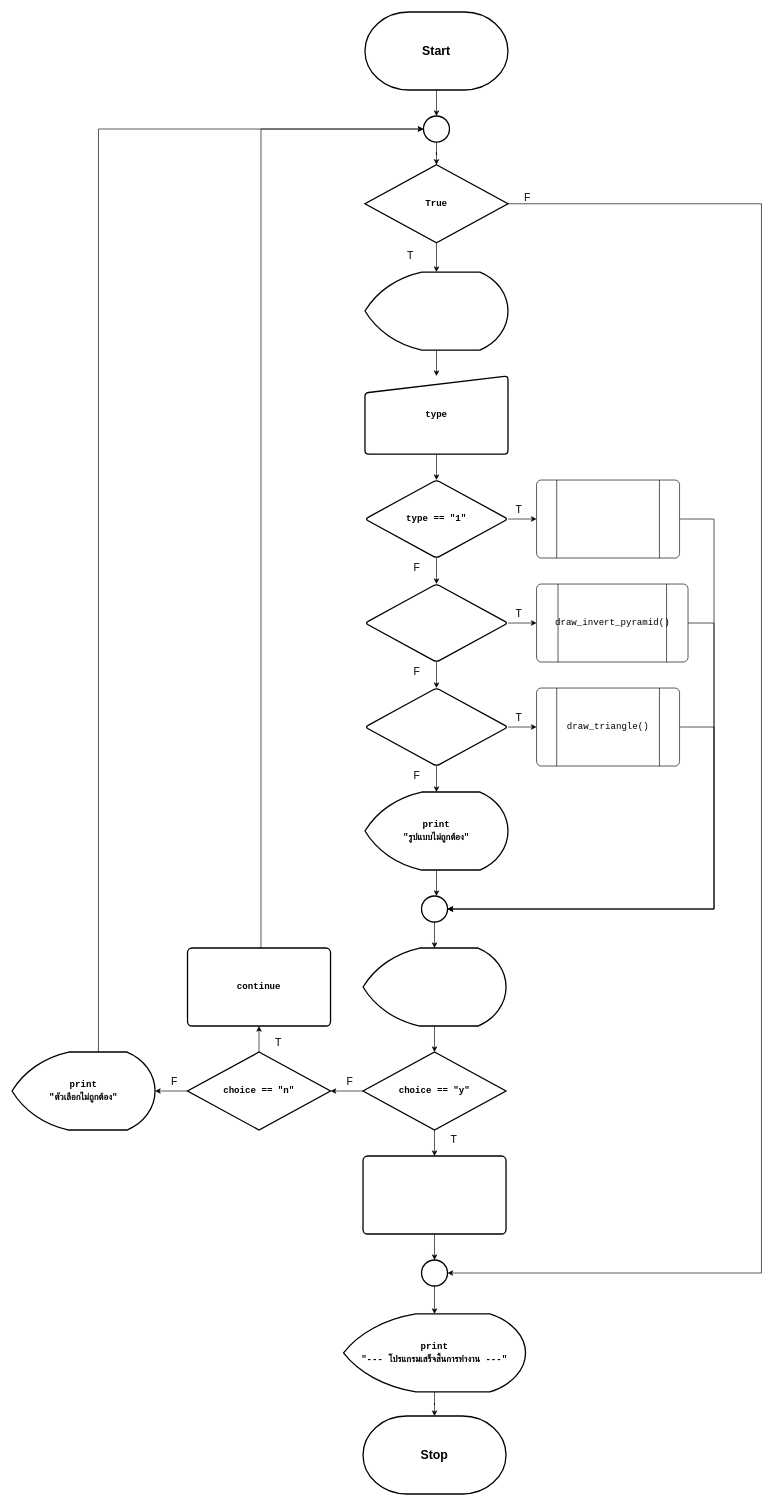
The diagram is 778 pixels wide and 1505 high, and some of its shapes have lost their labels. Each missing label, with the centre of its shape:
break: point (434, 1194)
draw_pyramid(): point (608, 518)
print " โปรแกรมวาดภาพ ": point (436, 310)
print "ต้องการออกหรือไม่ (y/n): ": point (434, 986)
type == "2": point (436, 622)
type == "3": point (436, 726)
